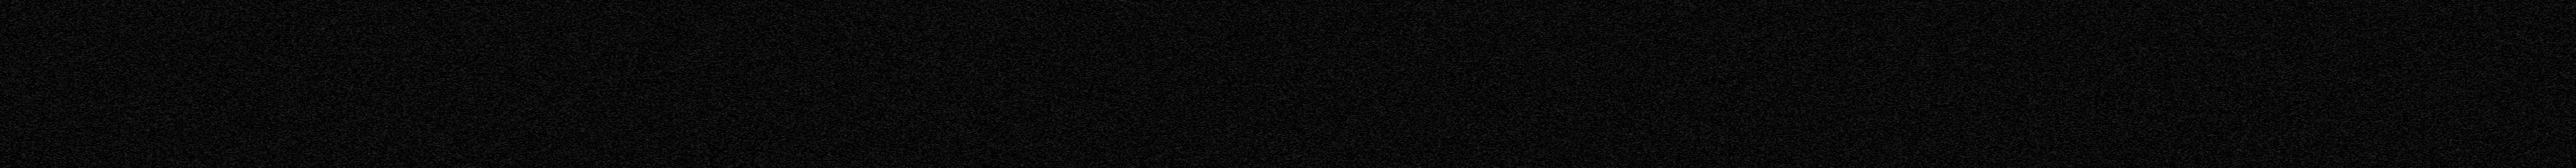wv_am: (1874, 0, 1878, 115), (1874, 115, 1878, 168)
wv_cw: (2385, 0, 2390, 168), (1686, 0, 1689, 168)
wv_lsb: (1464, 46, 1467, 132), (1684, 3, 1687, 72), (1684, 72, 1687, 130), (1464, 3, 1467, 46), (1684, 132, 1687, 168), (1464, 142, 1467, 168), (1689, 61, 1690, 96), (1689, 120, 1690, 147), (1689, 40, 1690, 61), (1689, 148, 1690, 168), (1687, 3, 1690, 8), (1464, 137, 1467, 142), (1464, 132, 1467, 137), (1689, 112, 1690, 120), (1689, 96, 1690, 104), (1689, 33, 1690, 40), (1689, 26, 1690, 33), (1689, 18, 1690, 25), (1689, 10, 1690, 16), (1689, 105, 1690, 110)
wv_wbfm: (1557, 0, 1589, 168)
